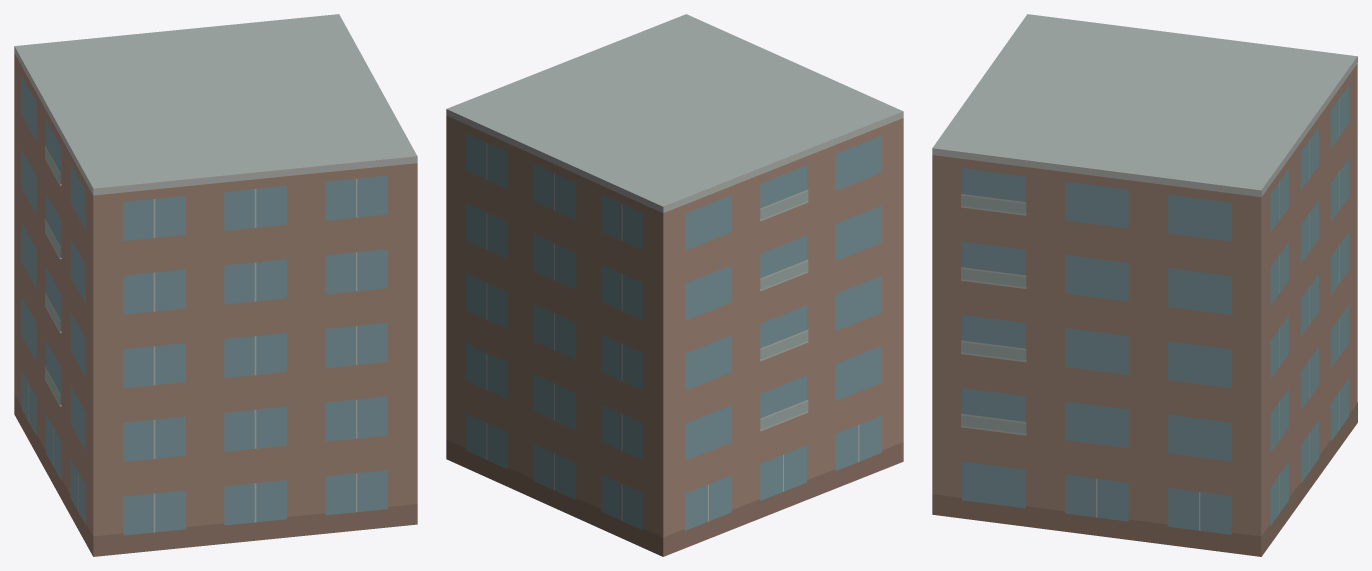
The model's file is survey-upis-32874831.glb.
The picture shows the model from 3 angles, left to right: view 1: azimuth 30°, elevation 25°; view 2: azimuth 150°, elevation 25°; view 3: azimuth 270°, elevation 25°; orthographic projection. The views are drawn at different scales.
Parts seen in each view (by area): view 1: survey-upis-32874831.tmp; view 2: survey-upis-32874831.tmp; view 3: survey-upis-32874831.tmp.
Boxes of the visible parts, box(x1,y1,x2,y2) form: survey-upis-32874831.tmp: box(14, 14, 417, 556); survey-upis-32874831.tmp: box(446, 14, 903, 556); survey-upis-32874831.tmp: box(932, 14, 1357, 556).
Bounding box in the file's own units: 13.64 × 13.2 × 13.9.
